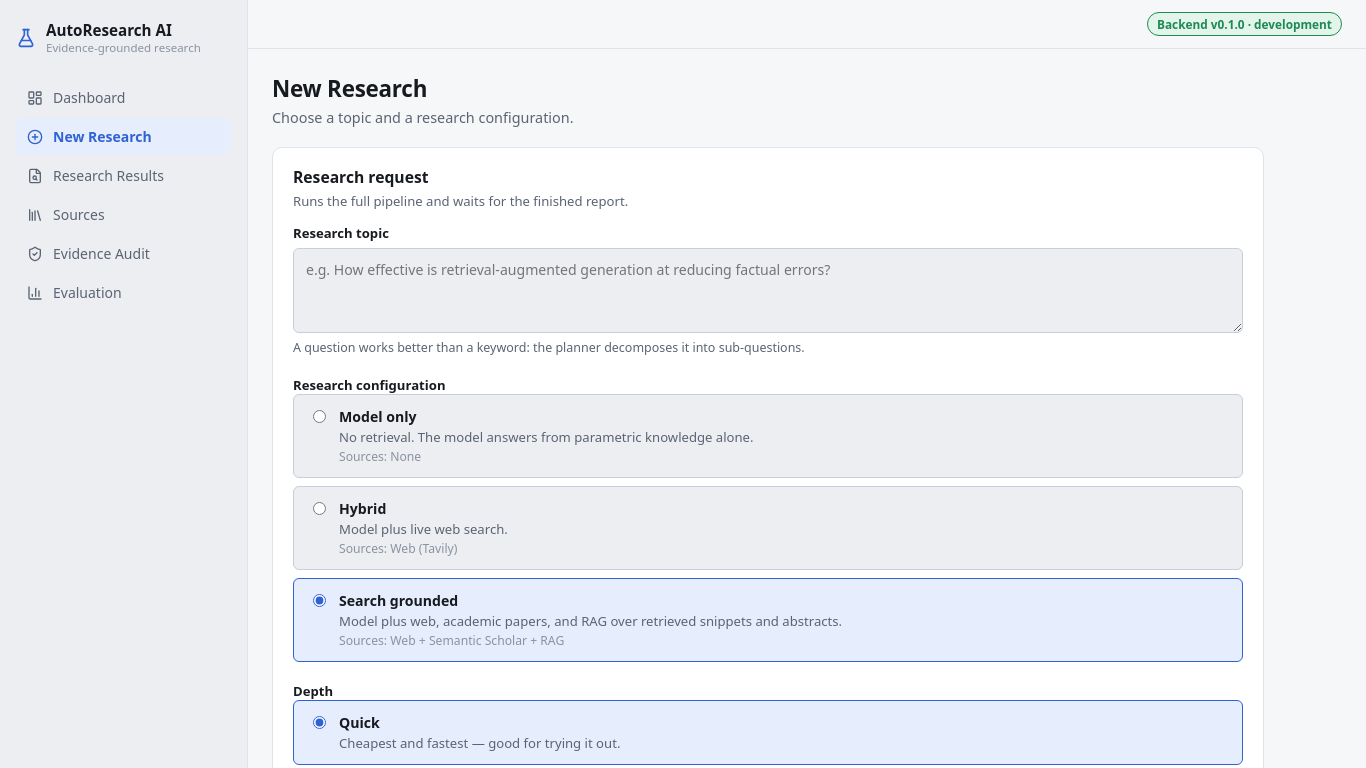
Test: validation › reports a long enough topic as valid
In the text box labelled "Research topic": (768, 291) [293,248,1243,333], type "Does retrieval reduce hallucination?"
(page scrolled)
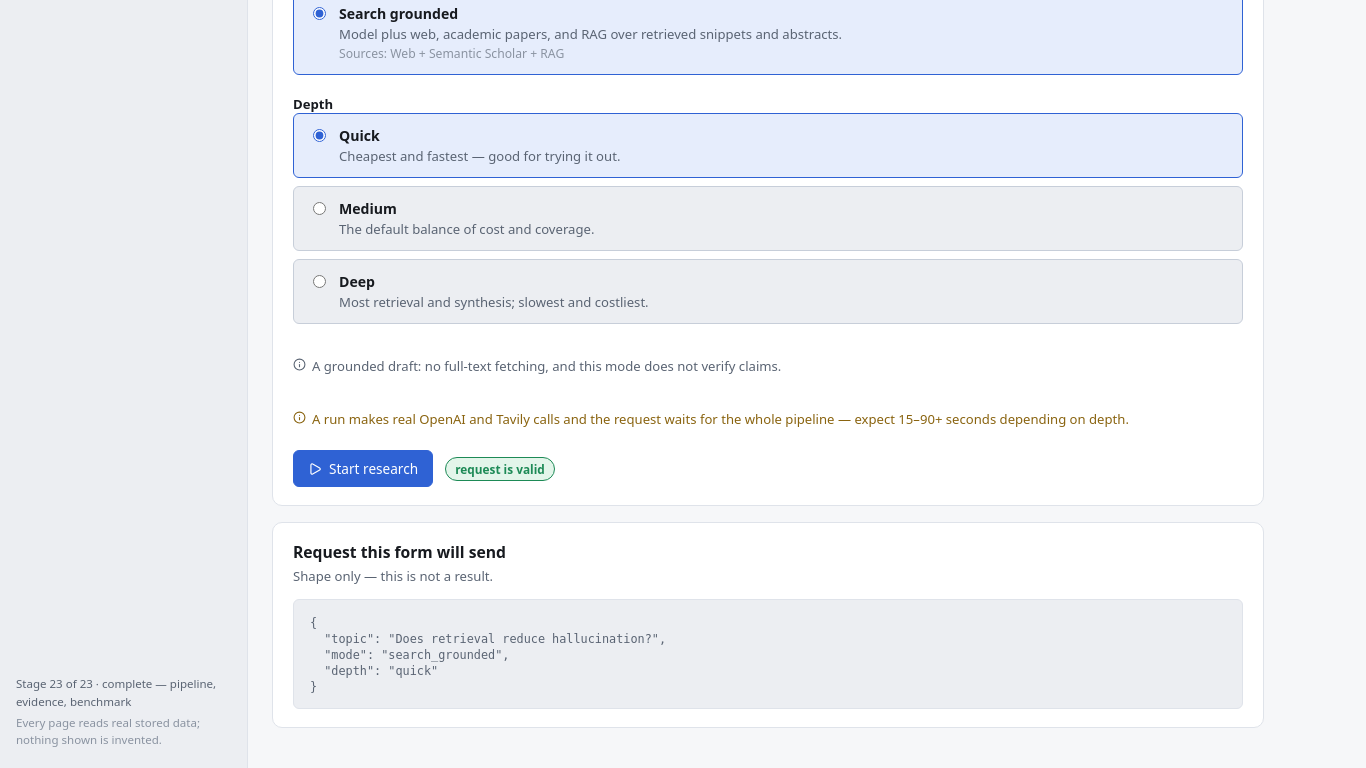
Now the text "request is valid" is shown, box [445,457,555,481]
